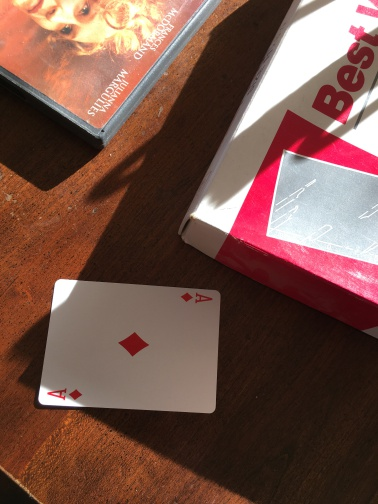ace: (38, 279, 221, 416)
